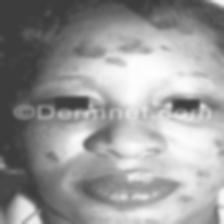Non-Cancerous Skin Condition: (71, 37, 184, 71), (81, 209, 180, 224), (197, 128, 224, 162), (173, 190, 211, 208), (206, 56, 224, 93), (37, 148, 69, 165)
